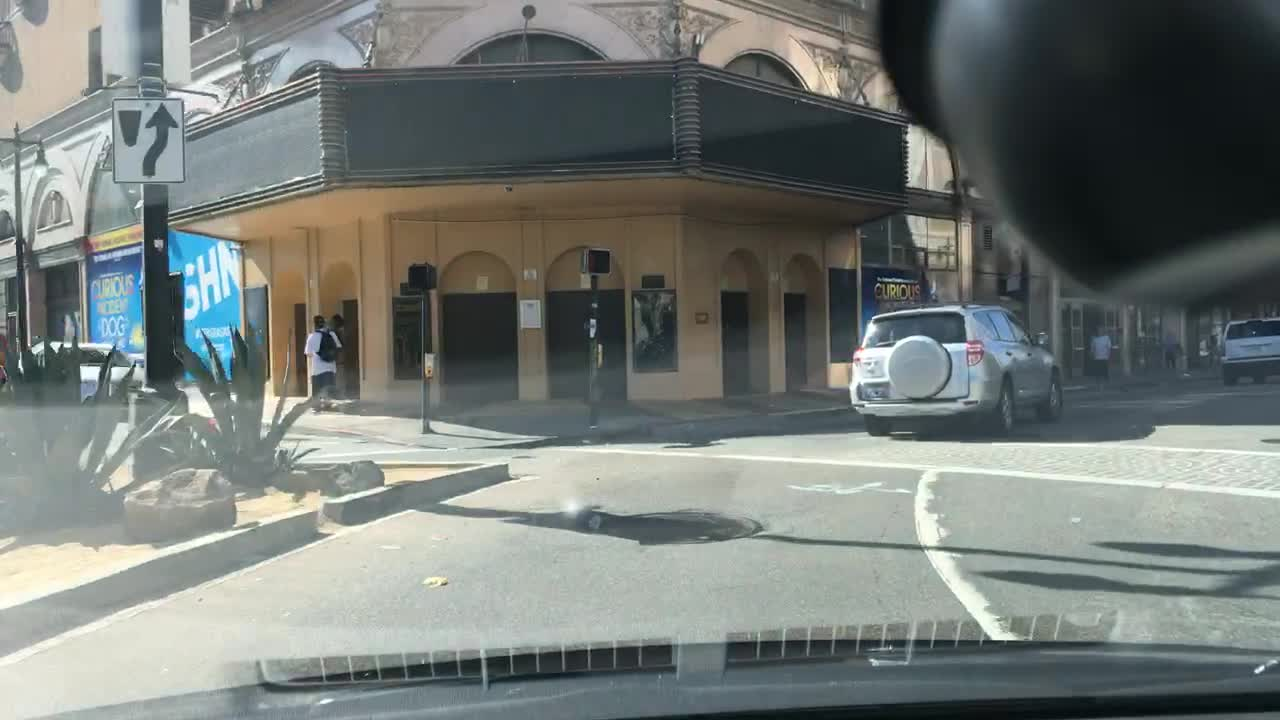car: (850, 303, 1065, 435), (15, 338, 145, 404), (1222, 315, 1279, 387), (0, 335, 13, 389)
person: (301, 313, 338, 415), (331, 314, 344, 399), (1091, 326, 1108, 383), (1162, 330, 1183, 375)
traffic light: (579, 246, 611, 277), (410, 260, 437, 288)
traffic sign: (112, 98, 184, 185)
